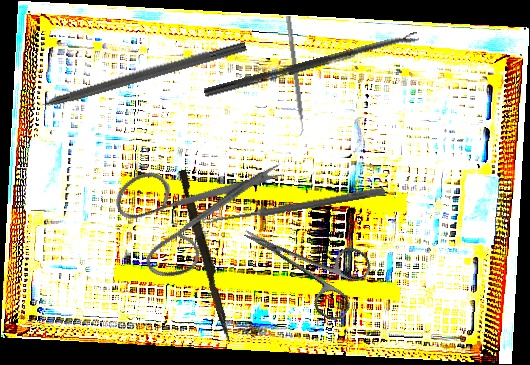Hook Surgical: (14, 38, 248, 118)
Iris Scissors: (93, 102, 290, 307), (227, 197, 377, 326)
Pusher: (174, 169, 238, 343)
Spatula Surgical: (280, 15, 308, 137)
Surgical Spoon: (203, 31, 420, 99), (201, 186, 386, 227)
